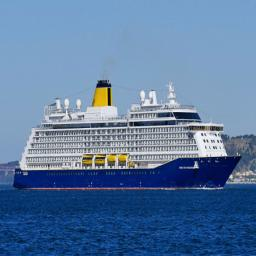cruises: (12, 75, 244, 194)
